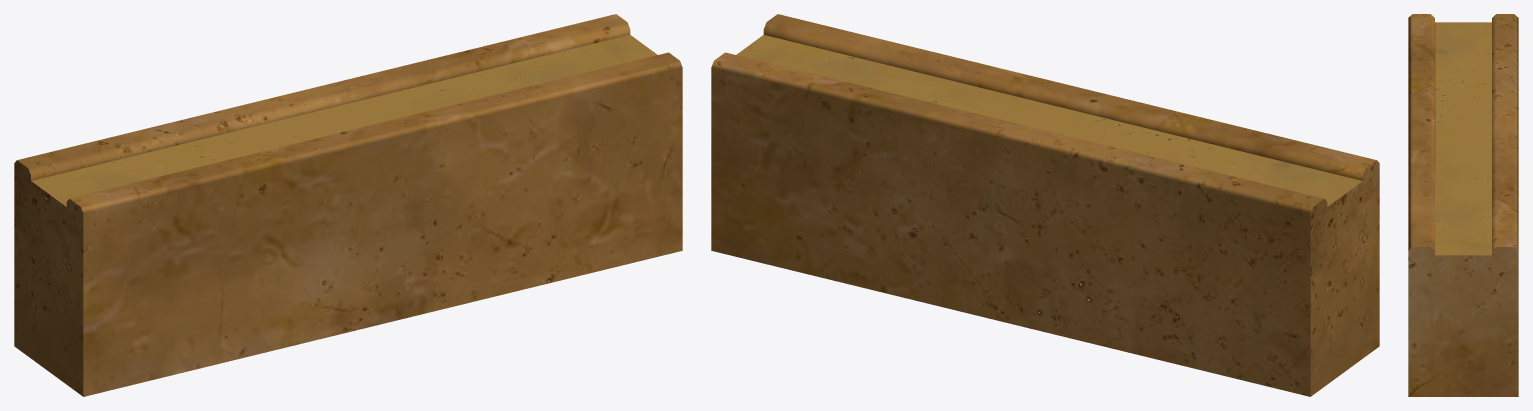
3 views of the same model, side by side, from view 1: azimuth 30°, elevation 25°; view 2: azimuth 150°, elevation 25°; view 3: azimuth 270°, elevation 25° (orthographic). The views are drawn at different scales.
Parts seen in each view (by area): view 1: SM_Vault_2m_Lane_01_LOD0; view 2: SM_Vault_2m_Lane_01_LOD0; view 3: SM_Vault_2m_Lane_01_LOD0.
Part boxes in pixels (x1,y1,x2,y2): SM_Vault_2m_Lane_01_LOD0: (14, 14, 682, 396); SM_Vault_2m_Lane_01_LOD0: (711, 14, 1379, 396); SM_Vault_2m_Lane_01_LOD0: (1408, 14, 1518, 396).
Size of the model in its own units: 2 by 0.6 by 0.4.
2 materials, 2 textured.
